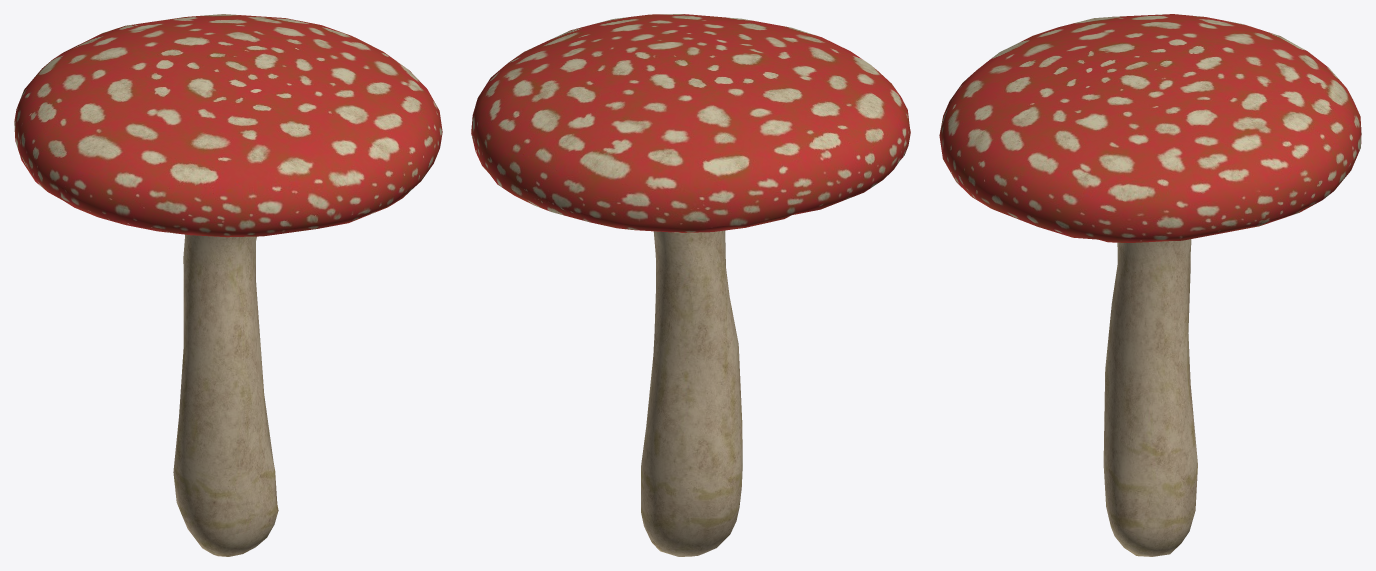
Rendered from shroom-1.gltf.
3 views of the same model, side by side, from view 1: azimuth 30°, elevation 25°; view 2: azimuth 150°, elevation 25°; view 3: azimuth 270°, elevation 25° (orthographic). The views are drawn at different scales.
Visible parts, largest first — view 1: mushroom_02; view 2: mushroom_02; view 3: mushroom_02.
Boxes of the visible parts, x1=… form: mushroom_02: x1=14, y1=14, x2=442, y2=556; mushroom_02: x1=471, y1=14, x2=910, y2=556; mushroom_02: x1=939, y1=14, x2=1361, y2=556.
Bounding box in the file's own units: 79.7 × 99.7 × 78.17.
Materials: 1 (1 with a texture image).
